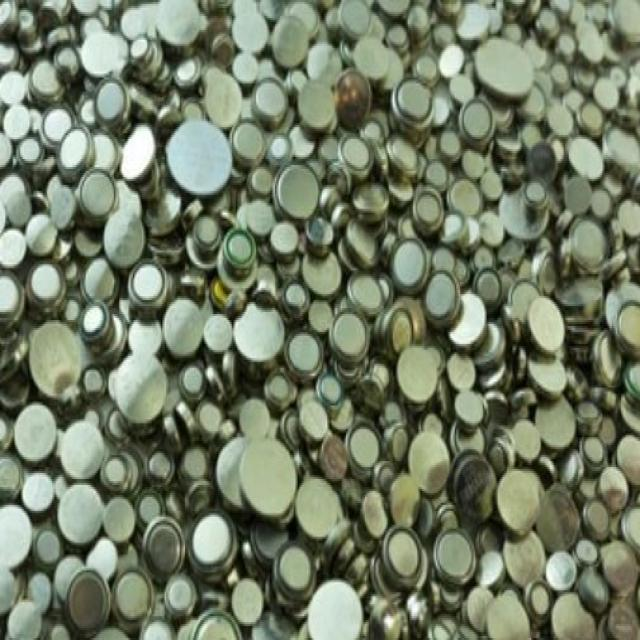electronic: (164, 110, 241, 194), (230, 299, 287, 395), (385, 70, 442, 154), (274, 156, 322, 222), (457, 91, 498, 162), (218, 232, 266, 281), (285, 326, 321, 390)
